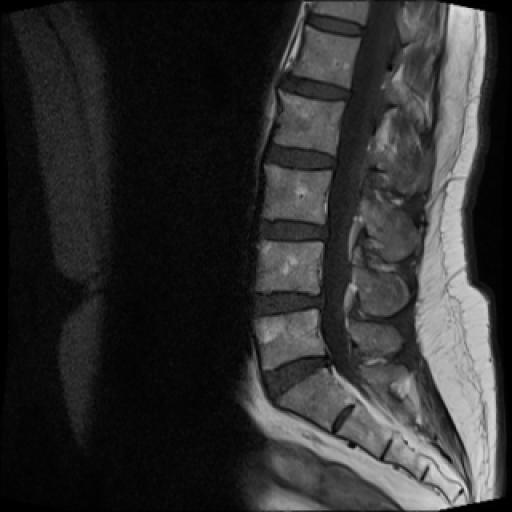L1: (293, 24, 361, 88)
L2: (274, 90, 345, 154)
L3: (264, 164, 332, 224)
L4: (256, 241, 322, 294)
L5: (255, 309, 326, 372)
S1: (274, 366, 356, 432)
